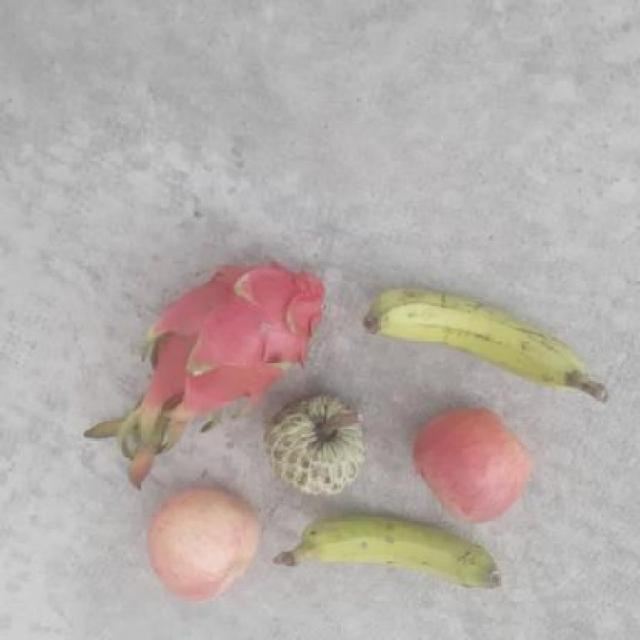apple: (415, 407, 534, 524), (144, 491, 258, 604)
banana: (360, 282, 586, 404), (292, 504, 499, 596)
dragon fruit: (142, 255, 326, 414)
sugar apple: (272, 397, 376, 500)
